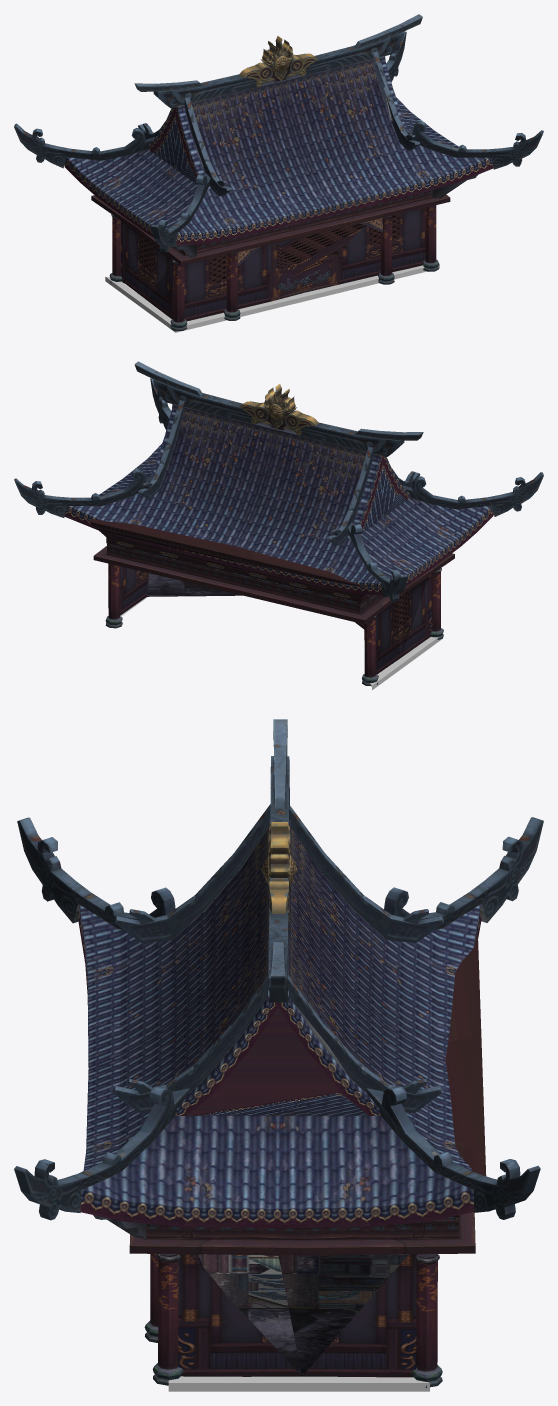
The model's file is Map01_Building_01B.FBX.
The picture shows the model from 3 angles, top to bottom: view 1: azimuth 30°, elevation 25°; view 2: azimuth 150°, elevation 25°; view 3: azimuth 270°, elevation 25°; orthographic projection. The views are drawn at different scales.
Parts seen in each view (by area): view 1: Map01_Building_01_frag_075, Map01_Building_01_frag_113, Map01_Building_01_frag_070, Map01_Building_01_frag_071, Map01_Building_01_frag_115, Map01_Building_01_frag_073, Map01_Building_01_frag_072, Map01_Building_01_frag_123, Map01_Building_01_frag_292, Map01_Building_01_frag_277, Map01_Building_01_frag_285, Map01_Building_01_frag_287 (+26 smaller); view 2: Map01_Building_01_frag_072, Map01_Building_01_frag_071, Map01_Building_01_frag_075, Map01_Building_01_frag_070, Map01_Building_01_frag_113, Map01_Building_01_frag_025, Map01_Building_01_frag_105, Map01_Building_01_frag_280, Map01_Building_01_frag_040, Map01_Building_01_frag_024, Map01_Building_01_frag_285, Map01_Building_01_frag_026 (+22 smaller); view 3: Map01_Building_01_frag_071, Map01_Building_01_frag_075, Map01_Building_01_frag_105, Map01_Building_01_frag_072, Map01_Building_01_frag_035, Map01_Building_01_frag_292, Map01_Building_01_frag_280, Map01_Building_01_frag_101, Map01_Building_01_frag_073, Map01_Building_01_frag_033, Map01_Building_01_frag_106, Map01_Building_01_frag_025 (+22 smaller).
Part boxes in pixels (x1,y1,x2,y2): Map01_Building_01_frag_075: (210, 71, 345, 242); Map01_Building_01_frag_113: (121, 221, 270, 321); Map01_Building_01_frag_070: (116, 96, 219, 245); Map01_Building_01_frag_071: (323, 56, 493, 189); Map01_Building_01_frag_115: (261, 209, 419, 301); Map01_Building_01_frag_073: (330, 88, 432, 211); Map01_Building_01_frag_072: (64, 124, 170, 212); Map01_Building_01_frag_123: (278, 223, 364, 292); Map01_Building_01_frag_292: (405, 121, 543, 169); Map01_Building_01_frag_277: (29, 128, 152, 168); Map01_Building_01_frag_285: (305, 32, 404, 75); Map01_Building_01_frag_287: (373, 51, 420, 150); Map01_Building_01_frag_072: (205, 466, 429, 595); Map01_Building_01_frag_071: (64, 404, 238, 558); Map01_Building_01_frag_075: (220, 420, 335, 533); Map01_Building_01_frag_070: (332, 444, 493, 569); Map01_Building_01_frag_113: (355, 574, 432, 674); Map01_Building_01_frag_025: (127, 526, 279, 583); Map01_Building_01_frag_105: (119, 566, 242, 615); Map01_Building_01_frag_280: (14, 470, 152, 517); Map01_Building_01_frag_040: (252, 551, 366, 602); Map01_Building_01_frag_024: (141, 551, 292, 598); Map01_Building_01_frag_285: (153, 379, 251, 422); Map01_Building_01_frag_026: (133, 563, 296, 608); Map01_Building_01_frag_071: (80, 937, 474, 1227); Map01_Building_01_frag_075: (86, 853, 428, 1074); Map01_Building_01_frag_105: (216, 1254, 416, 1377); Map01_Building_01_frag_072: (308, 866, 481, 1077); Map01_Building_01_frag_035: (129, 1212, 475, 1255); Map01_Building_01_frag_292: (14, 1085, 189, 1220); Map01_Building_01_frag_280: (372, 1085, 540, 1219); Map01_Building_01_frag_101: (178, 1254, 232, 1376); Map01_Building_01_frag_073: (85, 972, 253, 1155); Map01_Building_01_frag_033: (146, 1217, 458, 1239); Map01_Building_01_frag_106: (226, 1254, 406, 1375); Map01_Building_01_frag_025: (445, 1035, 485, 1146).
Size of what is drawn, in the model's own units: 3169 by 1859 by 1993.
